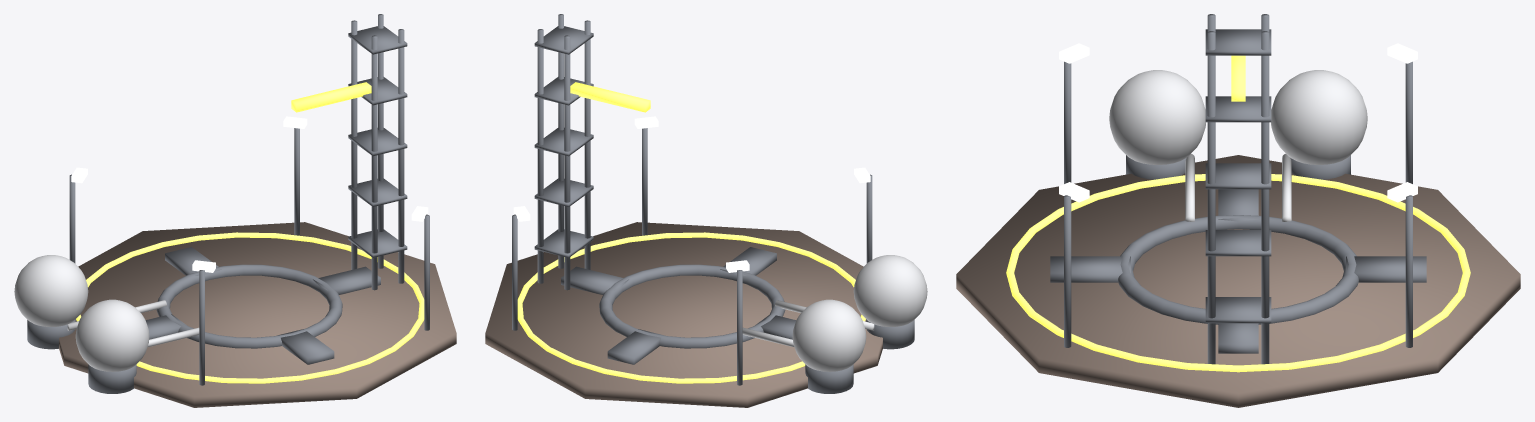
Rendered from LaunchPad_UE5.glb.
3 views of the same model, side by side, from view 1: azimuth 30°, elevation 25°; view 2: azimuth 150°, elevation 25°; view 3: azimuth 270°, elevation 25° (orthographic). The views are drawn at different scales.
Parts seen in each view (by area): view 1: LaunchPad_UE5; view 2: LaunchPad_UE5; view 3: LaunchPad_UE5.
Part boxes in pixels (x1,y1,x2,y2): LaunchPad_UE5: (14,14,456,407); LaunchPad_UE5: (485,14,927,407); LaunchPad_UE5: (956,14,1520,407).
Bounding box in the file's own units: 16 × 10.45 × 15.4.
